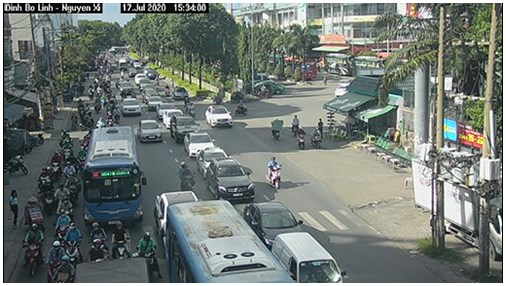xe_buyt: (168, 203, 292, 283), (84, 128, 143, 226)
xe_hoi: (244, 202, 305, 248), (205, 159, 257, 202), (170, 112, 200, 143), (197, 147, 229, 176), (138, 117, 163, 147), (204, 104, 234, 128), (184, 130, 215, 153), (121, 96, 142, 116), (147, 94, 162, 108)
xe_may: (21, 223, 45, 277), (136, 228, 161, 277), (172, 160, 198, 191), (63, 223, 82, 265), (111, 220, 131, 258), (47, 239, 64, 279), (268, 154, 284, 190), (53, 211, 71, 241), (64, 171, 81, 201), (41, 178, 54, 209), (56, 196, 72, 221), (89, 239, 107, 261), (270, 116, 285, 140), (310, 126, 325, 150), (89, 221, 105, 240), (289, 111, 300, 138), (296, 128, 307, 151)
